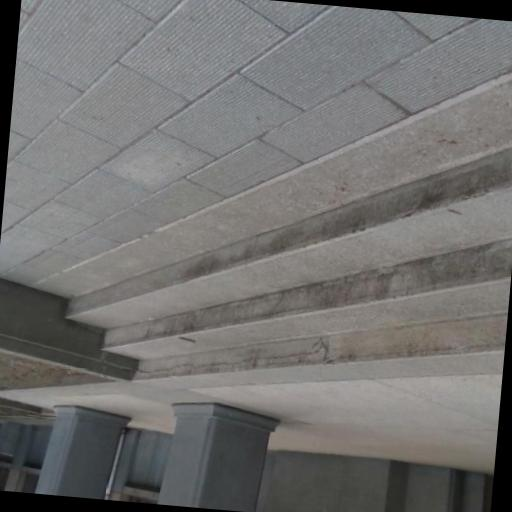stairs: (67, 148, 511, 379)
